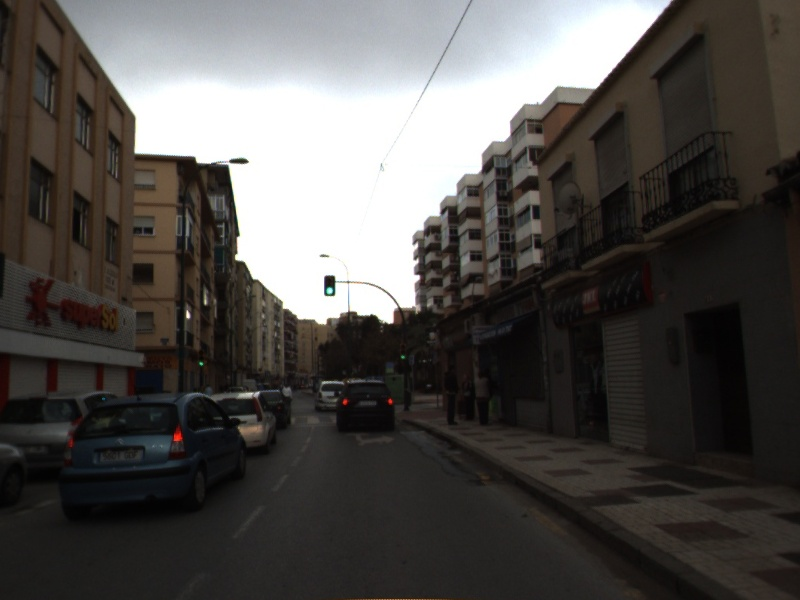STRAIGHT_RIGHT: (343, 429, 397, 448)
